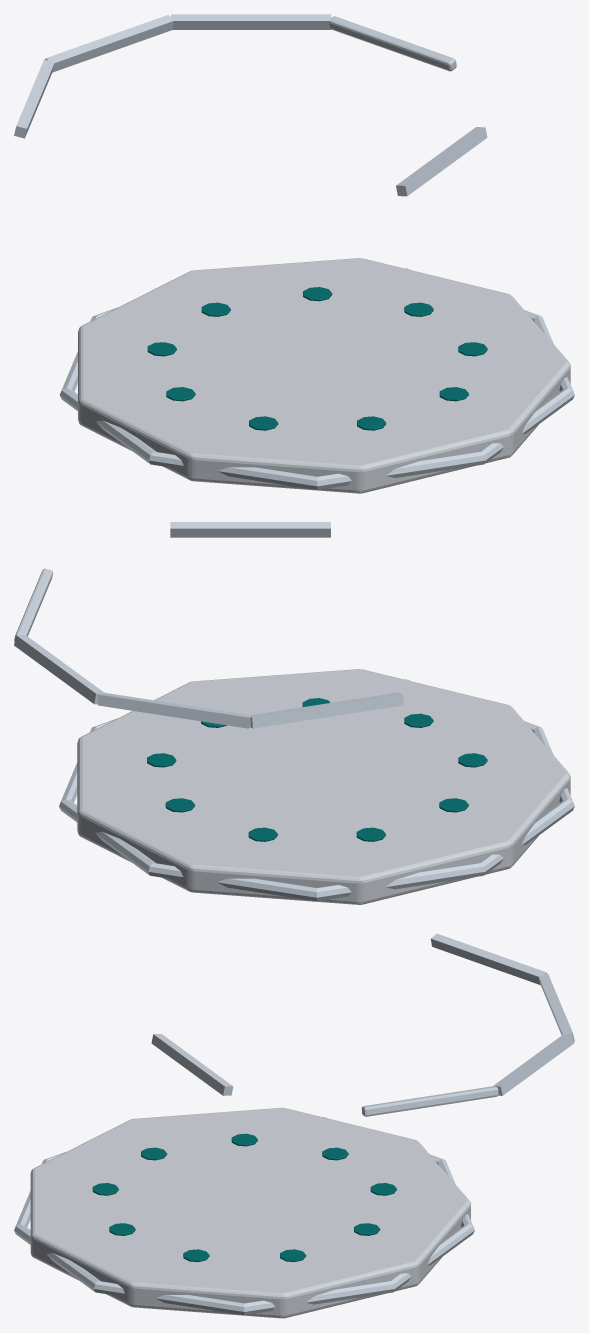
Rendered from e00_portada.glb.
The picture shows the model from 3 angles, top to bottom: view 1: azimuth 30°, elevation 25°; view 2: azimuth 150°, elevation 25°; view 3: azimuth 270°, elevation 25°; orthographic projection. The views are drawn at different scales.
Visible parts, largest first — view 1: PLT_BASE_NONAGONO, PLT_ARO_METAL, MARCO_E00_ARCO_01, MARCO_E00_ARCO_02, MARCO_E00_ARCO_00, MARCO_E00_ARCO_07, MARCO_E00_ARCO_03; view 2: PLT_BASE_NONAGONO, PLT_ARO_METAL, MARCO_E00_ARCO_07, MARCO_E00_ARCO_03, MARCO_E00_ARCO_02, MARCO_E00_ARCO_01, MARCO_E00_ARCO_00; view 3: PLT_BASE_NONAGONO, PLT_ARO_METAL, MARCO_E00_ARCO_03, MARCO_E00_ARCO_00, MARCO_E00_ARCO_07, MARCO_E00_ARCO_01, MARCO_E00_ARCO_02.
Boxes of the visible parts, x1,y1,x2,y2 form: PLT_BASE_NONAGONO: (78, 258, 570, 493); PLT_ARO_METAL: (60, 268, 574, 489); MARCO_E00_ARCO_01: (171, 14, 331, 29); MARCO_E00_ARCO_02: (45, 15, 173, 72); MARCO_E00_ARCO_00: (329, 16, 456, 71); MARCO_E00_ARCO_07: (396, 127, 487, 196); MARCO_E00_ARCO_03: (14, 59, 54, 138); PLT_BASE_NONAGONO: (77, 669, 570, 904); PLT_ARO_METAL: (59, 679, 574, 901); MARCO_E00_ARCO_07: (170, 522, 330, 537); MARCO_E00_ARCO_03: (250, 692, 403, 728); MARCO_E00_ARCO_02: (97, 692, 250, 728); MARCO_E00_ARCO_01: (14, 635, 103, 704); MARCO_E00_ARCO_00: (14, 568, 52, 641); PLT_BASE_NONAGONO: (30, 1107, 470, 1318); PLT_ARO_METAL: (14, 1117, 474, 1315); MARCO_E00_ARCO_03: (430, 933, 546, 984); MARCO_E00_ARCO_00: (361, 1086, 498, 1116); MARCO_E00_ARCO_07: (151, 1034, 233, 1095); MARCO_E00_ARCO_01: (493, 1034, 574, 1095); MARCO_E00_ARCO_02: (539, 973, 574, 1041).
Size of what is drawn, in the model's own units: 10.05 by 5.03 by 12.32.
